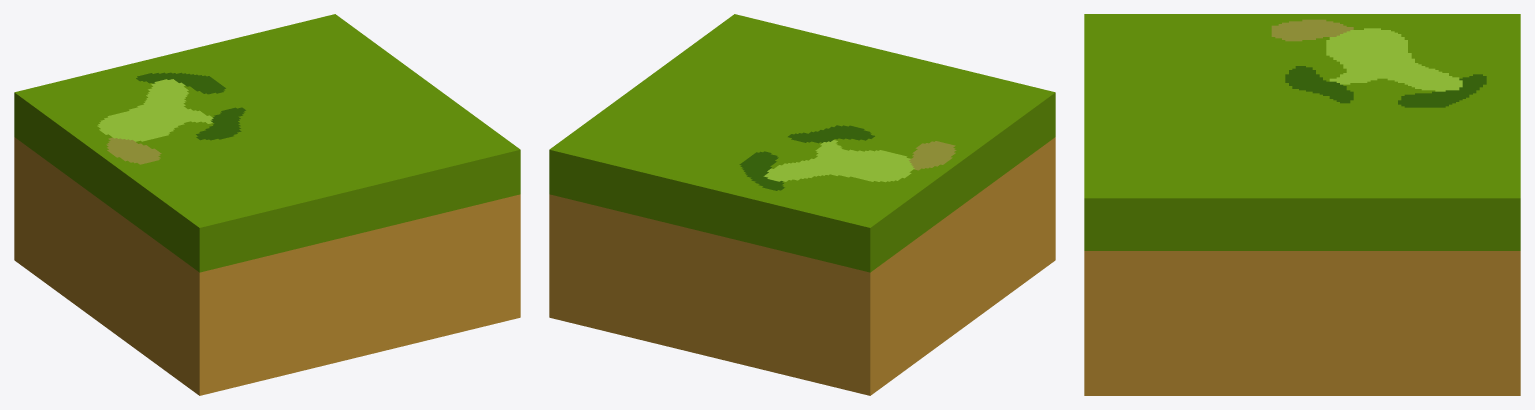
3 renders of one model, left to right at view 1: azimuth 30°, elevation 25°; view 2: azimuth 150°, elevation 25°; view 3: azimuth 270°, elevation 25°, orthographic. The views are drawn at different scales.
Visible parts, largest first — view 1: 13G; view 2: 13G; view 3: 13G.
Boxes of the visible parts, x1,y1,x2,y2 form: 13G: [14, 14, 520, 395]; 13G: [549, 14, 1055, 395]; 13G: [1084, 14, 1520, 395].
Bounding box in the file's own units: 12.8 × 6.4 × 12.8.
1 material, 1 textured.
